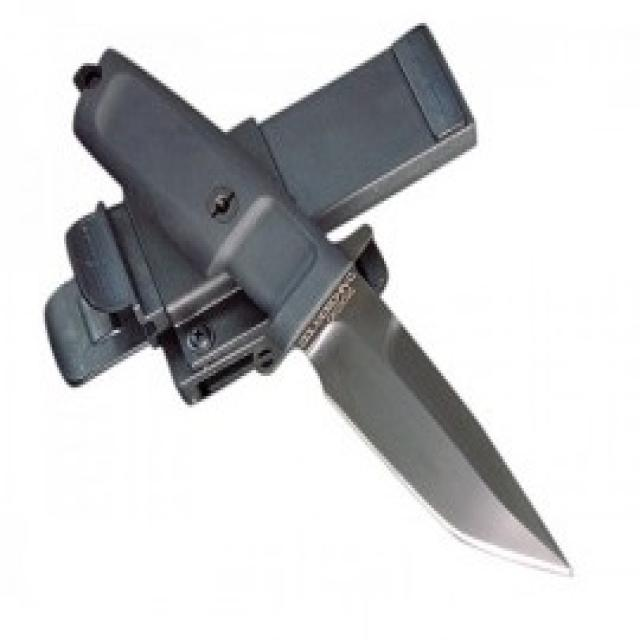knife: (58, 47, 588, 598)
